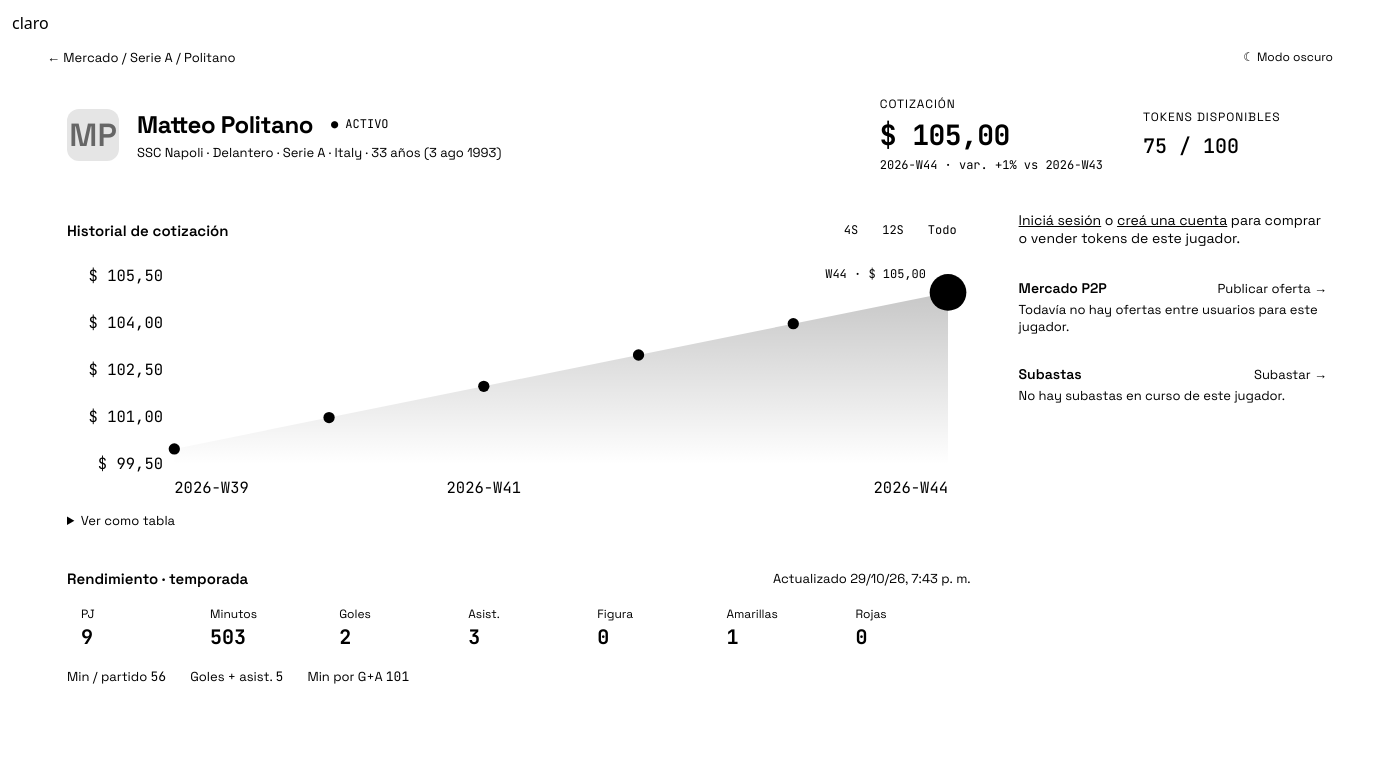
JugadorDetailPage › el selector de rango acota el historial a las últimas semanas
The width and height of the screenshot is (1378, 780).
Expected: the picture named "de 6 semanas" is shown, [67,257,971,504]
Step 1. Click the button "4S" → click(851, 230), box [834,217,868,243]
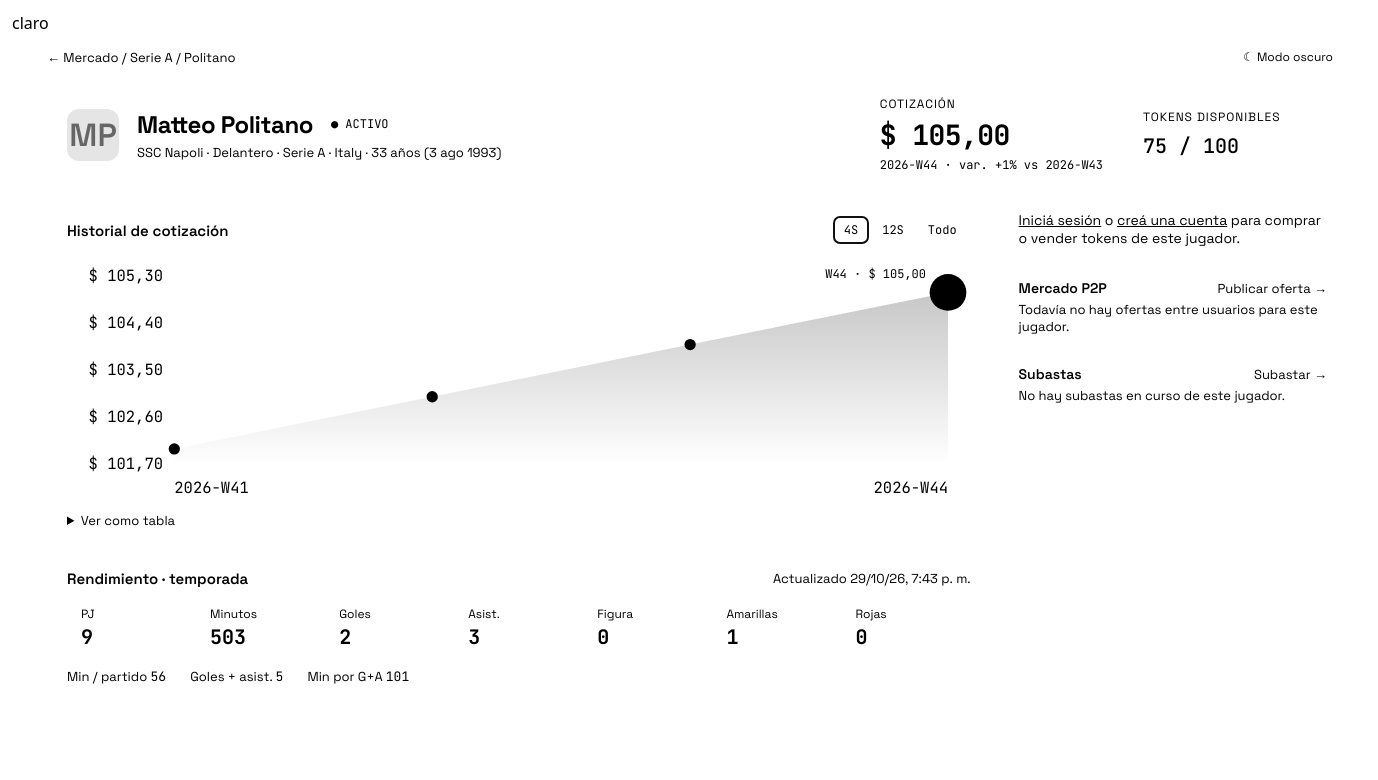
Expected: the picture named "de 4 semanas" is shown, [67,257,971,504]
